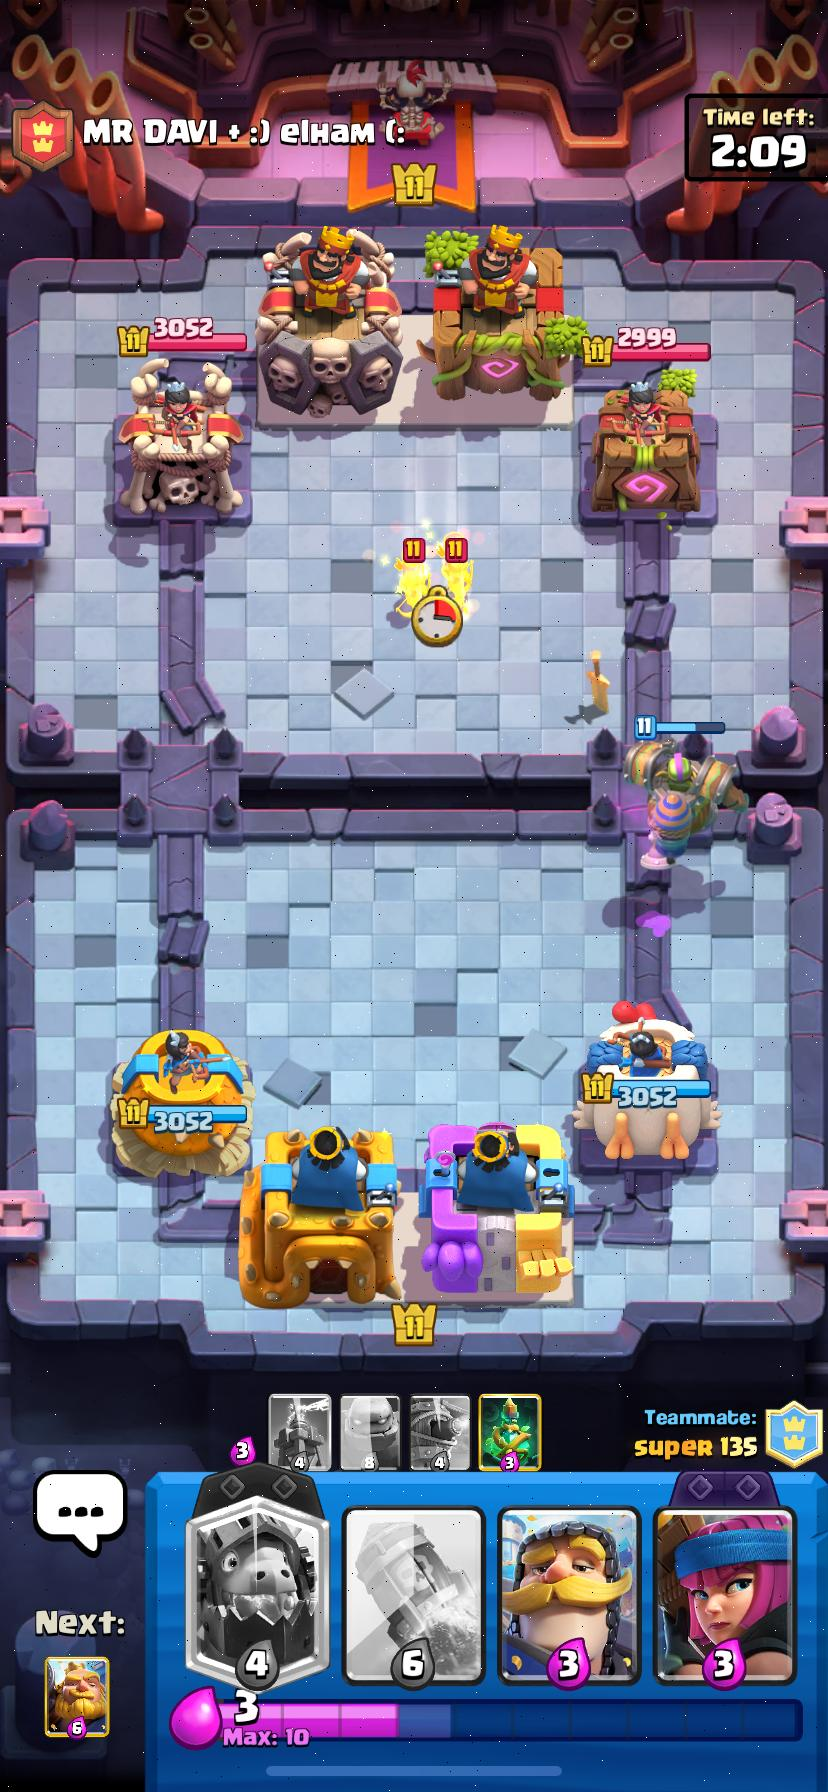EKingTower: (419, 226, 579, 400), (256, 227, 400, 416)
EnemyPrincessTower: (118, 359, 242, 515), (591, 381, 699, 511)
OGoblinMachine: (624, 735, 748, 859)
OwnKingTower: (240, 1126, 401, 1306), (422, 1123, 573, 1298)
OwnPrincessTower: (580, 1008, 719, 1159), (112, 1030, 254, 1173)
